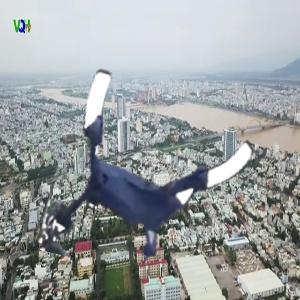drone: (56, 82, 249, 275)
